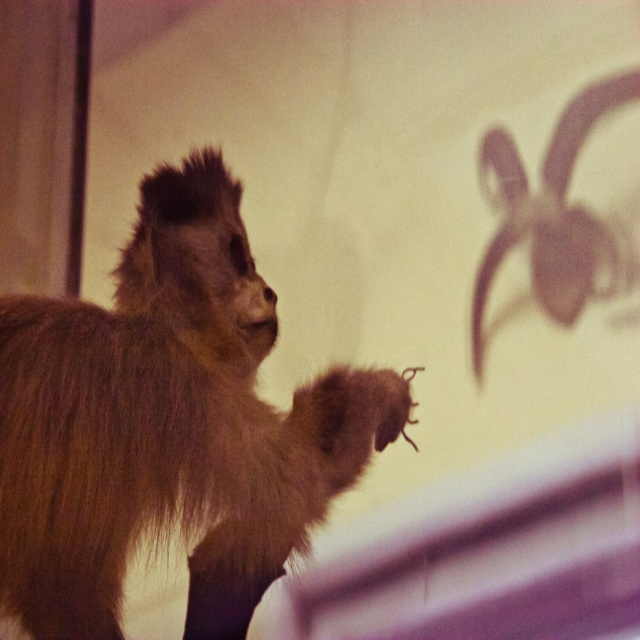Monkey: (4, 142, 428, 639)
